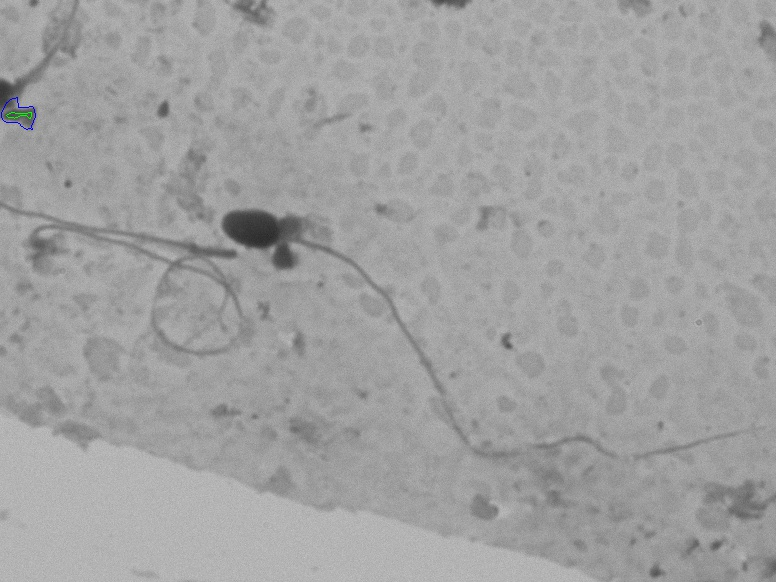Abnormal: (221, 185, 724, 486)
